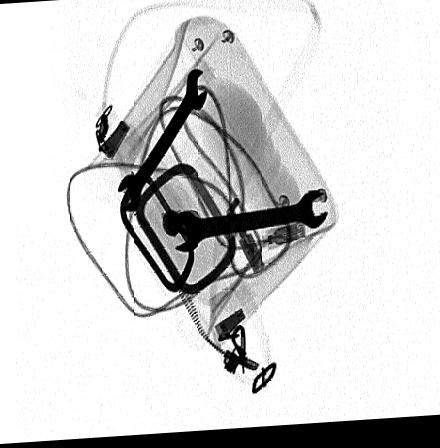Wrench: (115, 70, 207, 214), (167, 193, 331, 257)
